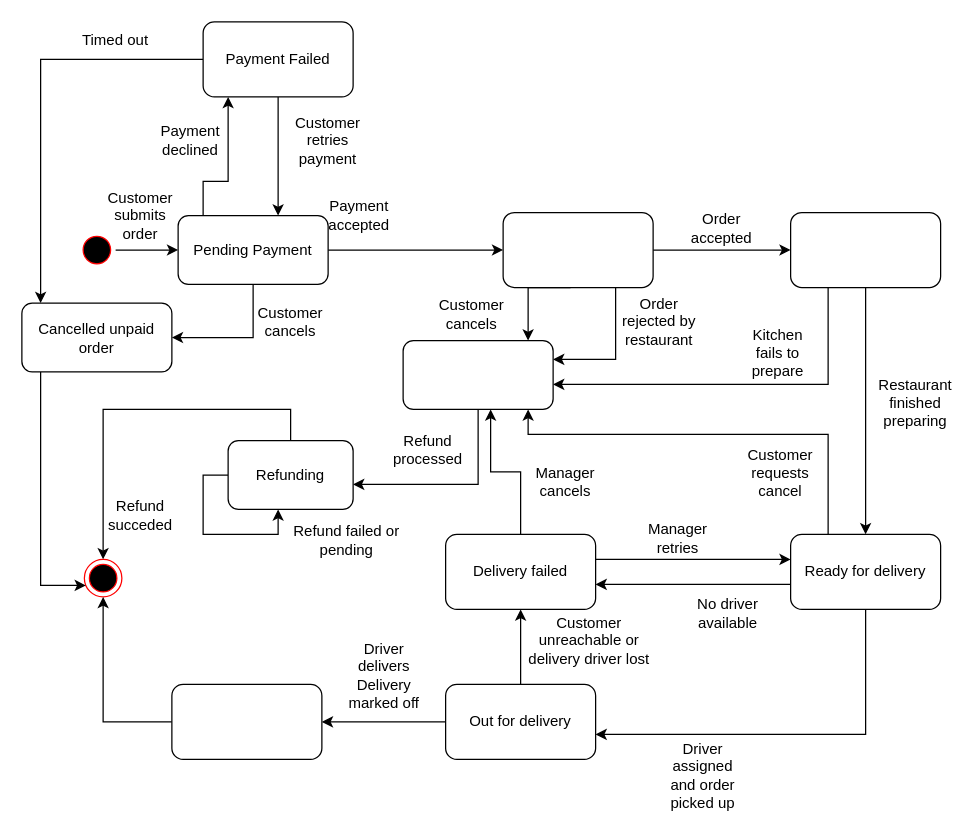
Some shapes in this 975 by 833 pixel diagram are drawn without their labels. The centre of each missing label's shape, as x and y in pixels:
"Cancelled paid order" belongs at (x=477, y=374).
"Delivered" belongs at (x=246, y=721).
"Placed" belongs at (x=577, y=249).
"Preparing" belongs at (x=865, y=249).
